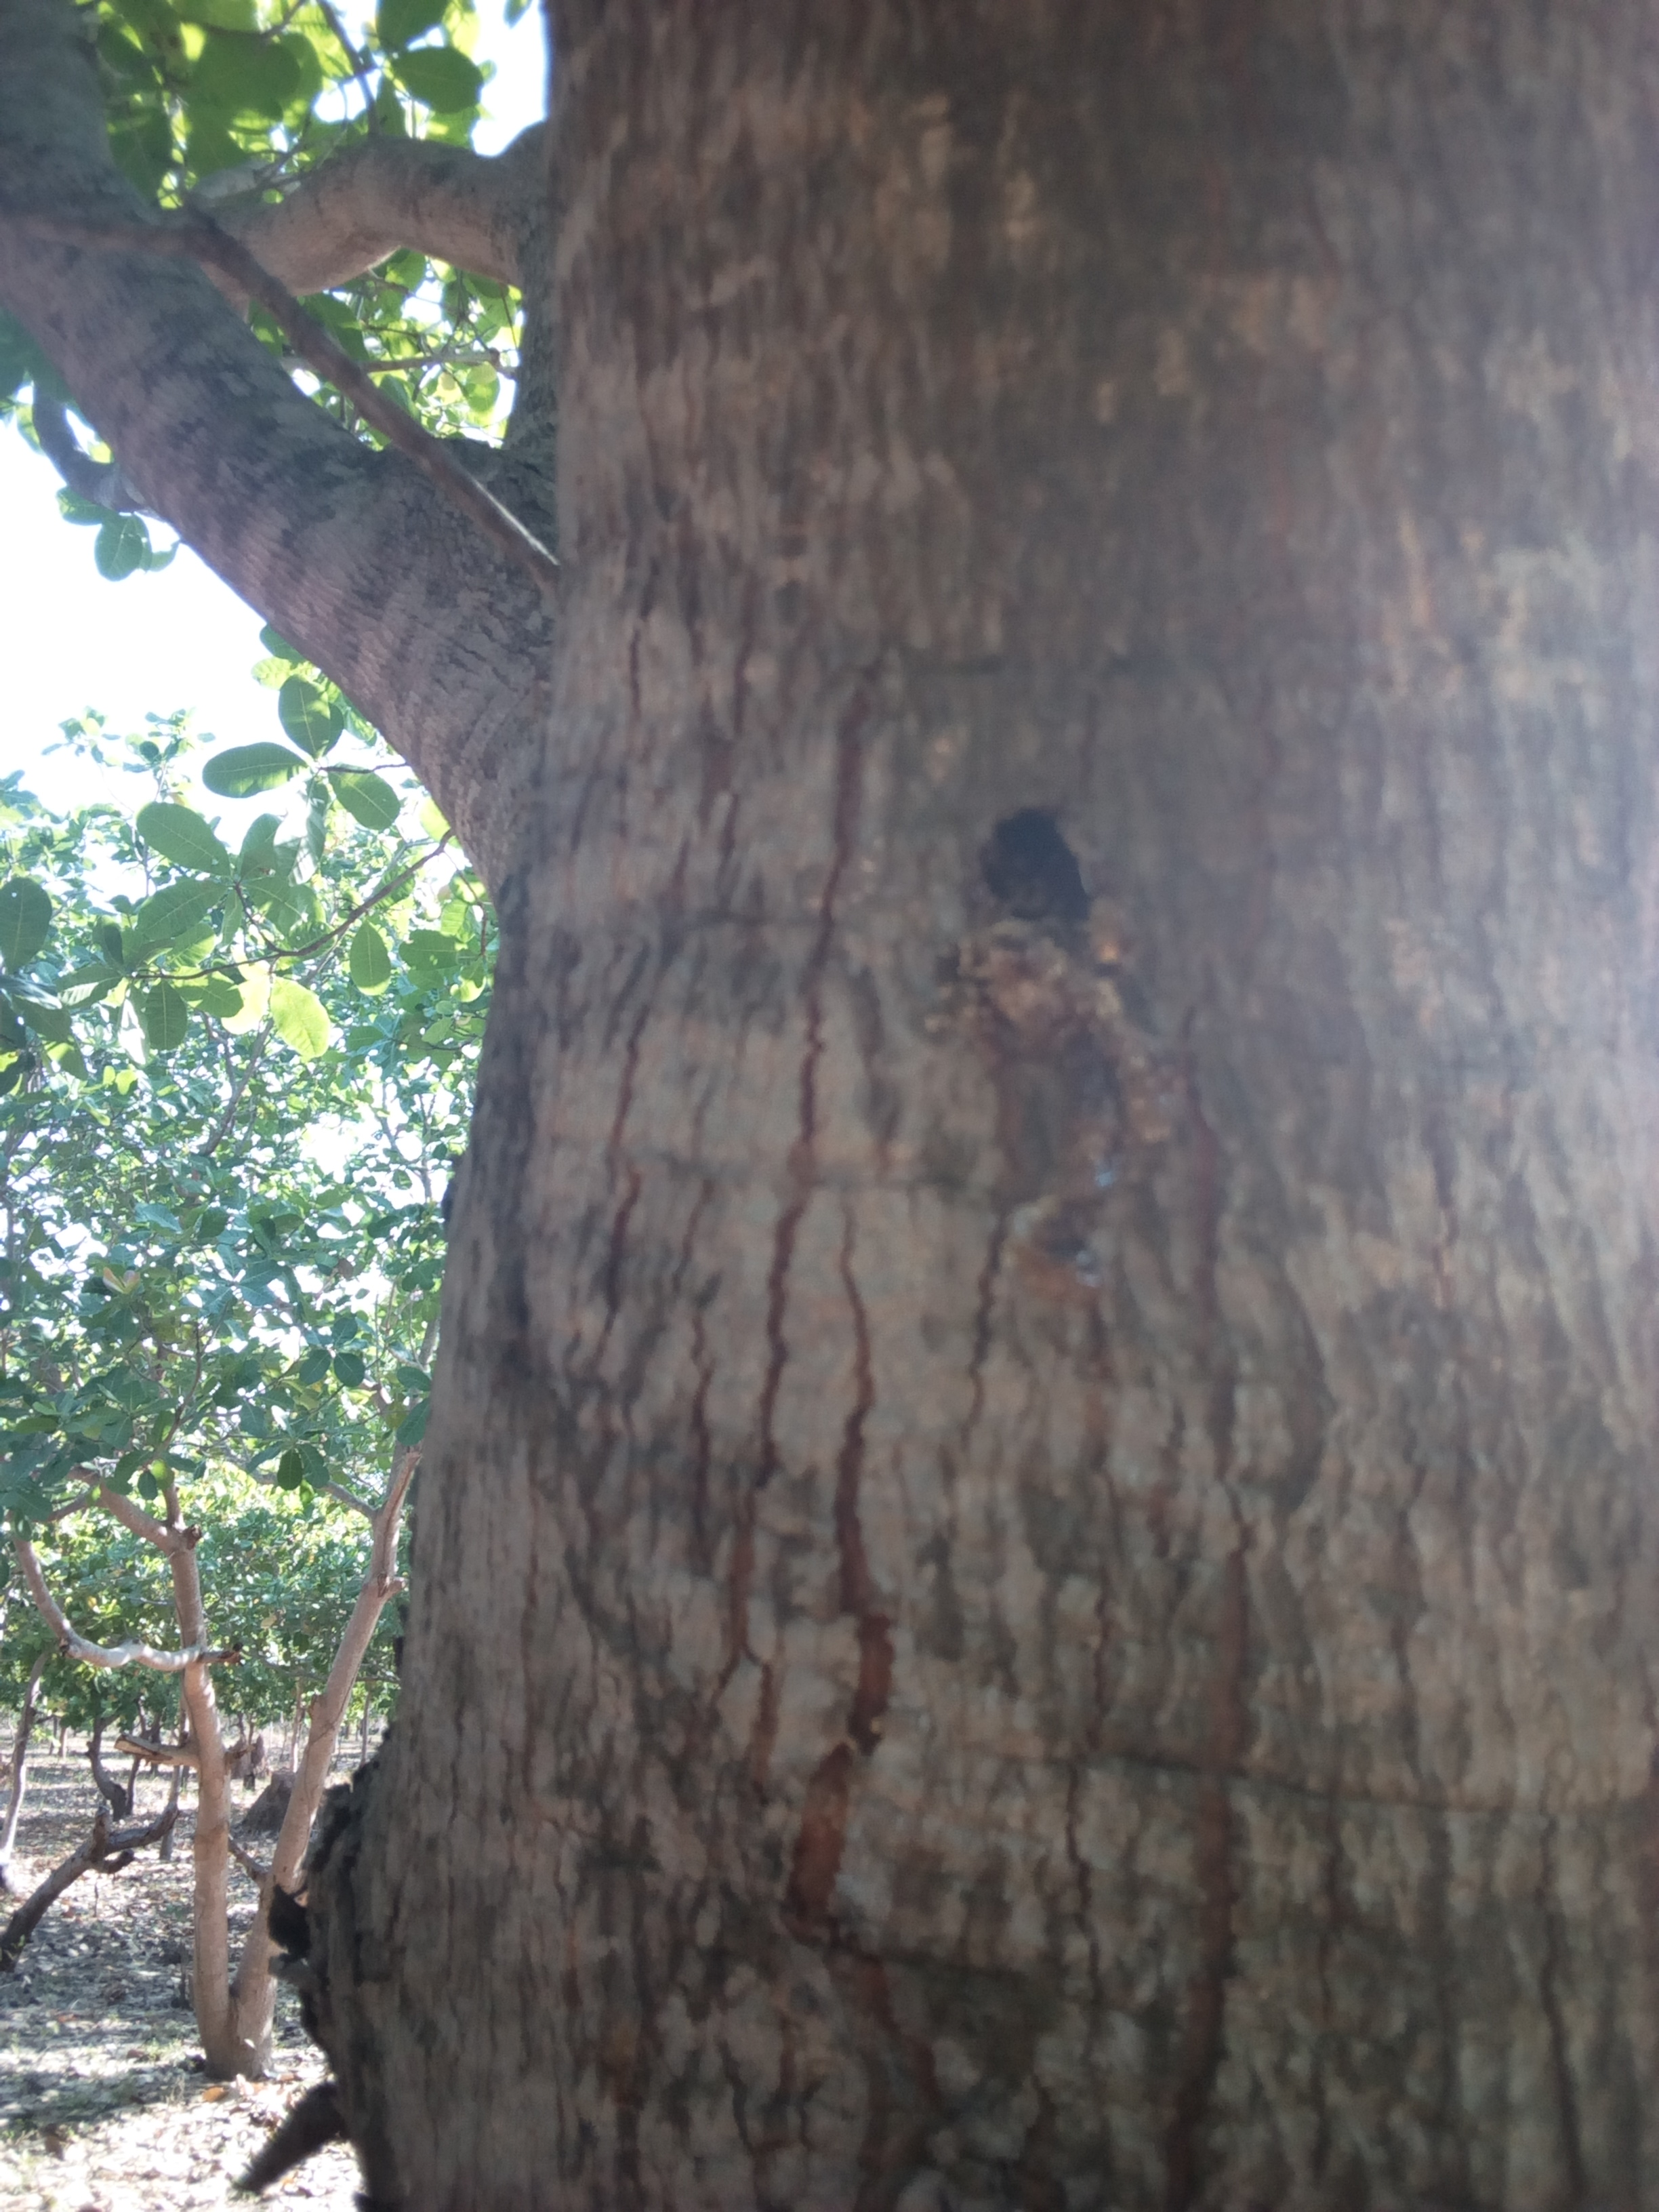Apate terebrans: (951, 791, 1159, 960)
